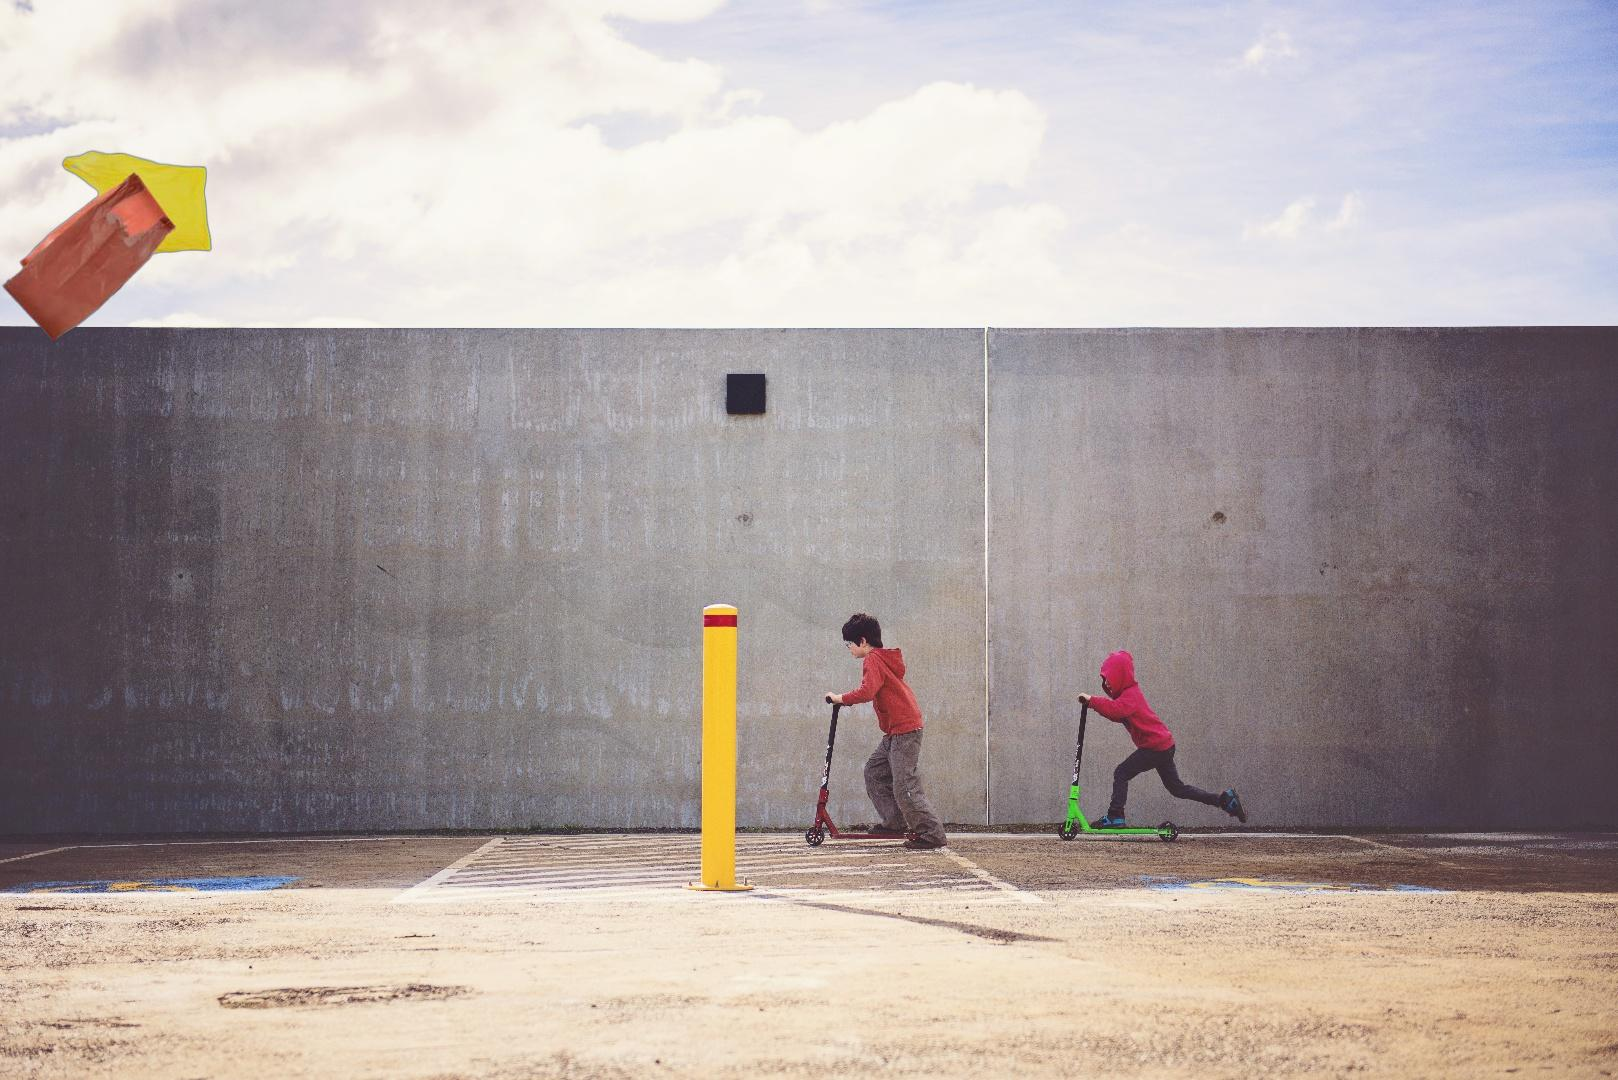plastic-bag: (0, 142, 213, 345)
